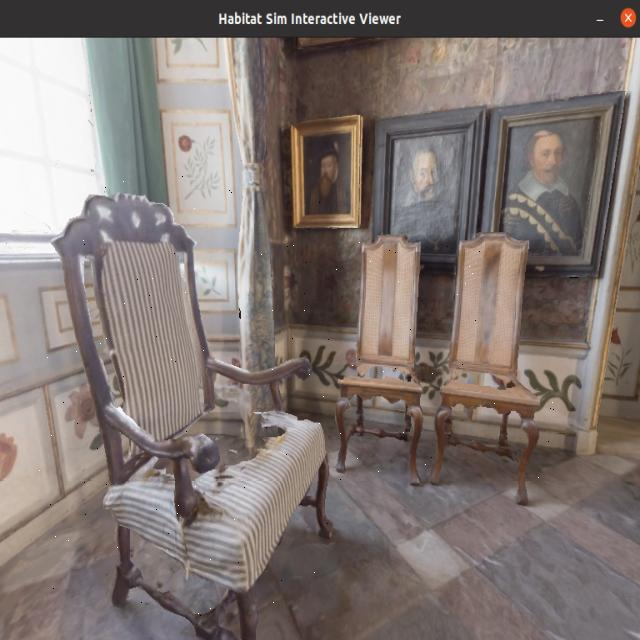chair: (35, 173, 347, 640), (414, 216, 558, 513), (341, 227, 428, 504)
